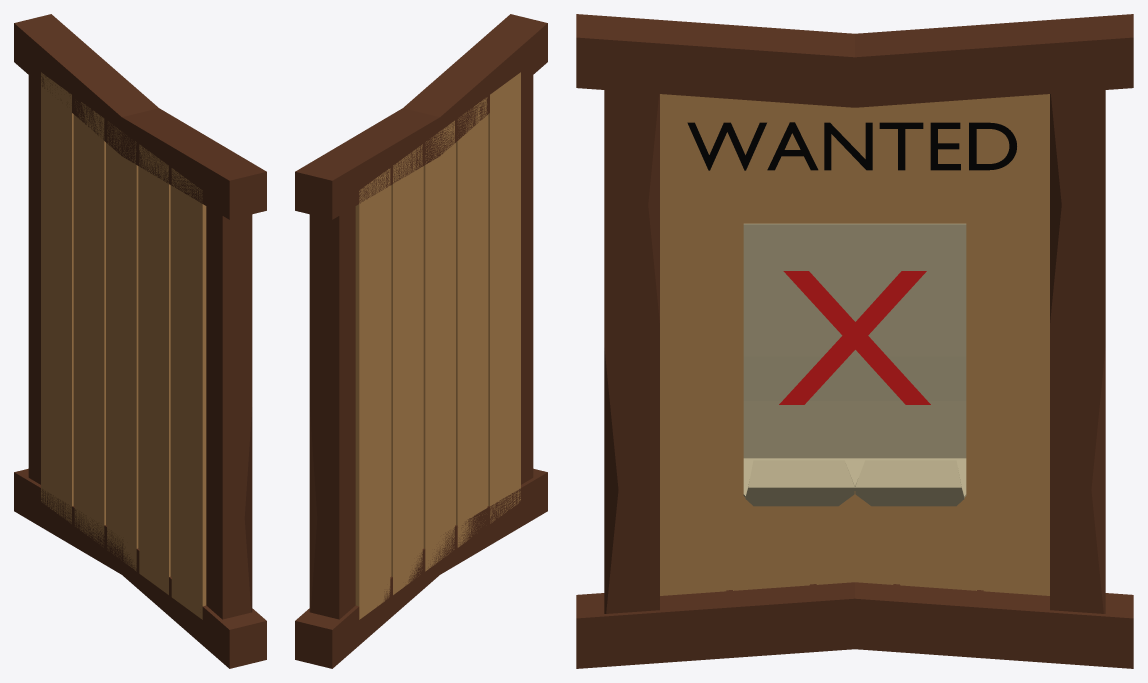
File: Wanted_Board.fbx
3 renders of one model, left to right at view 1: azimuth 30°, elevation 25°; view 2: azimuth 150°, elevation 25°; view 3: azimuth 270°, elevation 25°, orthographic. The views are drawn at different scales.
Parts seen in each view (by area): view 1: Wanted_Board_Merged; view 2: Wanted_Board_Merged; view 3: Wanted_Board_Merged.
Boxes of the visible parts, x1=… form: Wanted_Board_Merged: x1=14, y1=14, x2=266, y2=668; Wanted_Board_Merged: x1=295, y1=14, x2=547, y2=668; Wanted_Board_Merged: x1=576, y1=14, x2=1133, y2=668.
Bounding box in the file's own units: 20.57 × 150 × 120.
